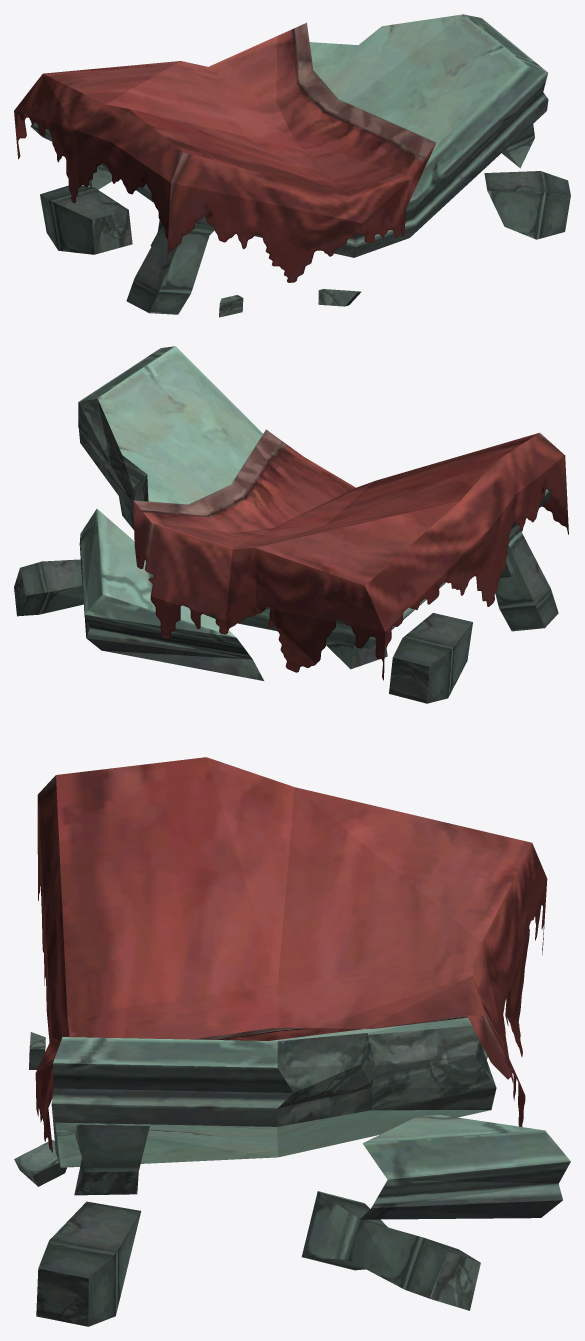
File: crypt_brokentable01.fbx
3 renders of one model, top to bottom at view 1: azimuth 30°, elevation 25°; view 2: azimuth 150°, elevation 25°; view 3: azimuth 270°, elevation 25°, orthographic. The views are drawn at different scales.
Visible parts, largest first — view 1: obj1.008; view 2: obj1.008; view 3: obj1.008.
Part boxes in pixels (<box>): obj1.008: <box>14,14,570,317</box>; obj1.008: <box>14,346,568,703</box>; obj1.008: <box>14,757,570,1326</box>.
Size of the model in its own units: 3.67 by 1.61 by 2.65.
